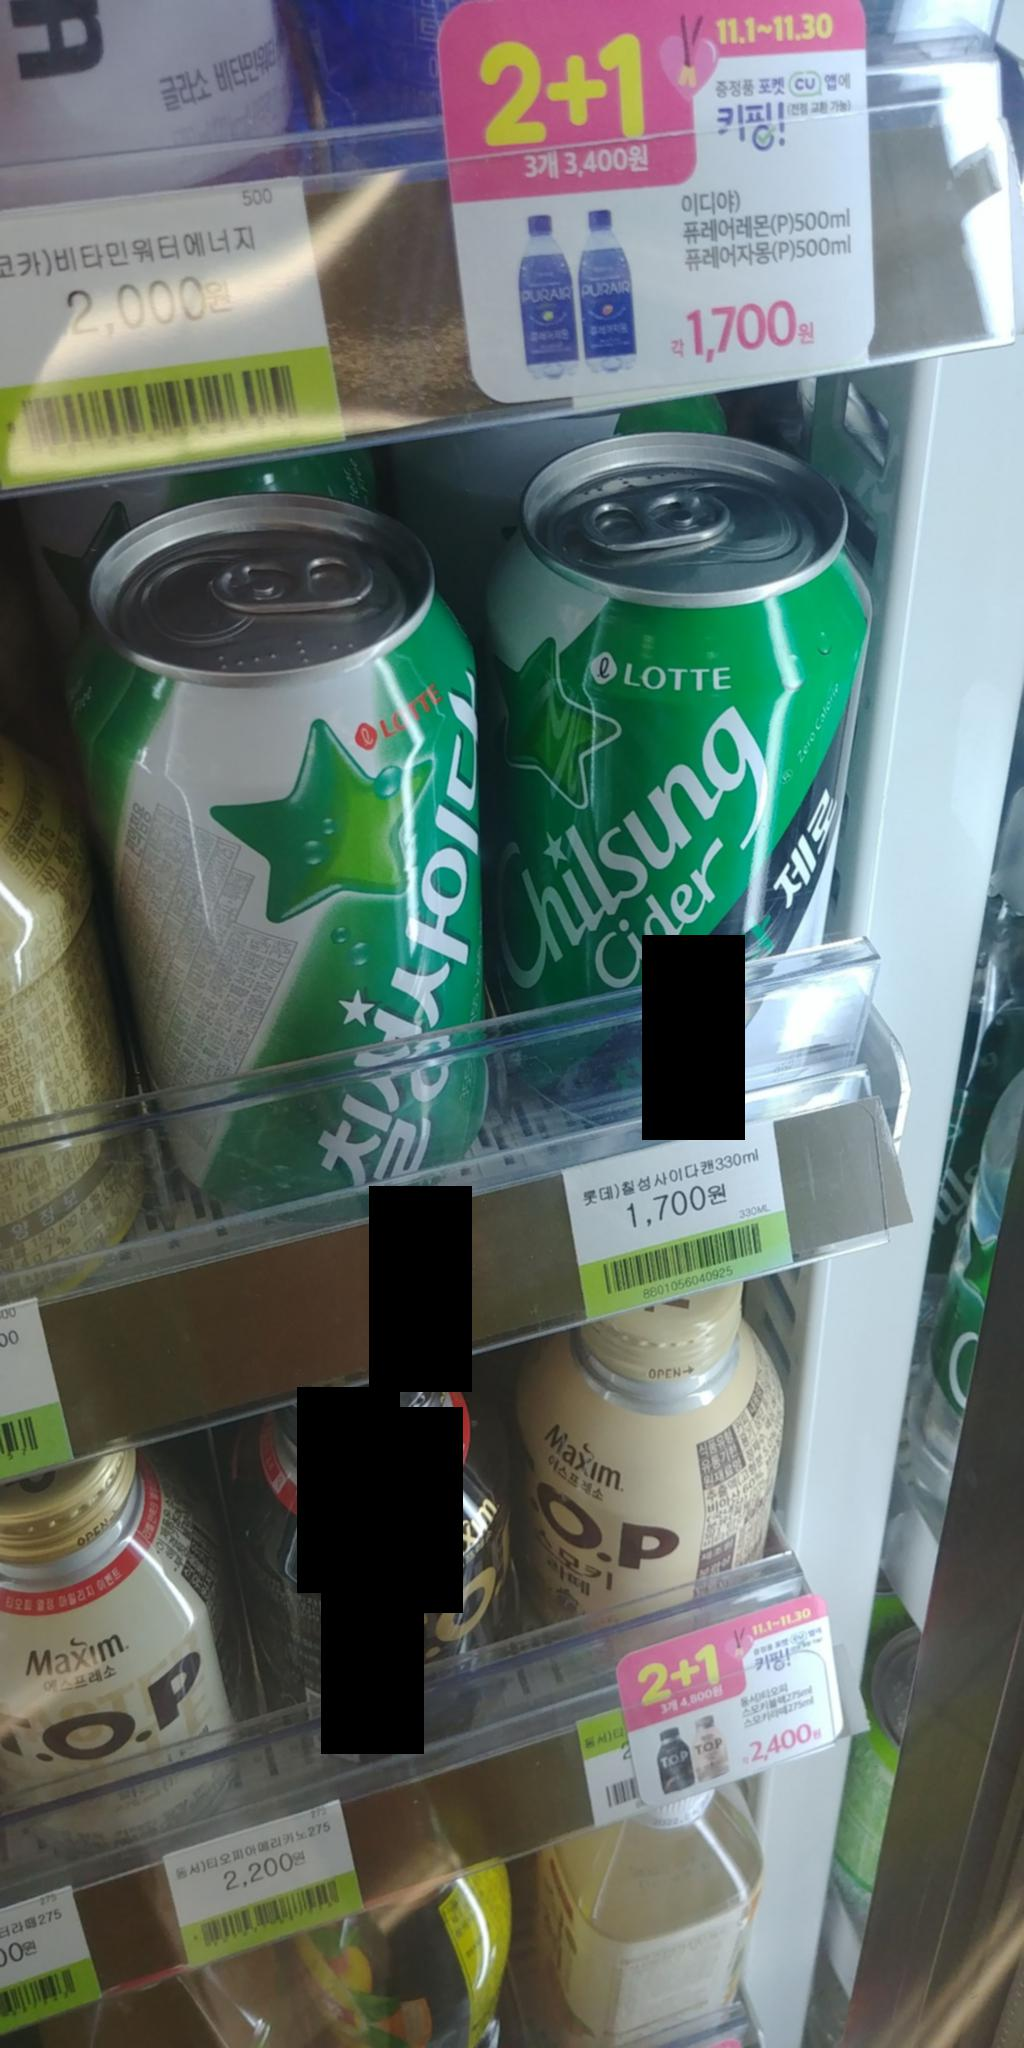TOP_black: (230, 1364, 529, 1775)
chilsungcider: (44, 503, 521, 1225)
